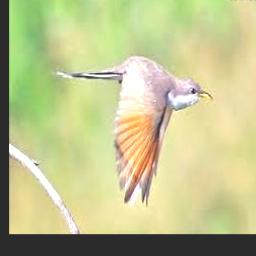Cuckoo: (52, 55, 213, 208)
